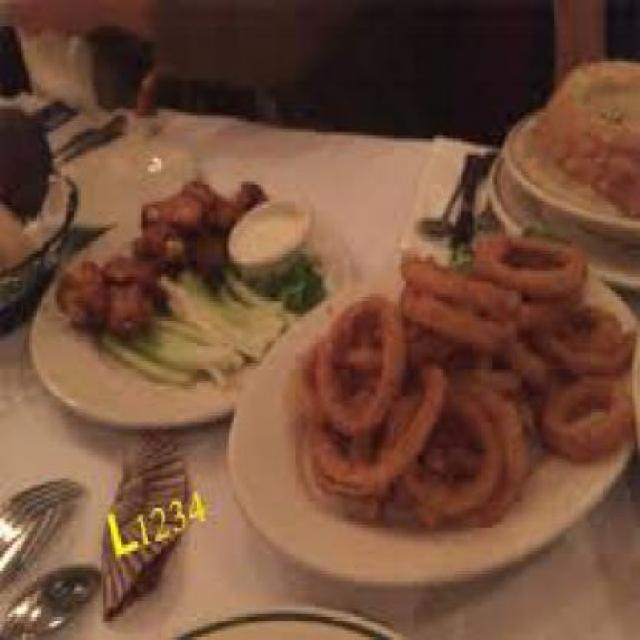chicken wings: (62, 172, 276, 330)
onion rings: (298, 214, 634, 532)
